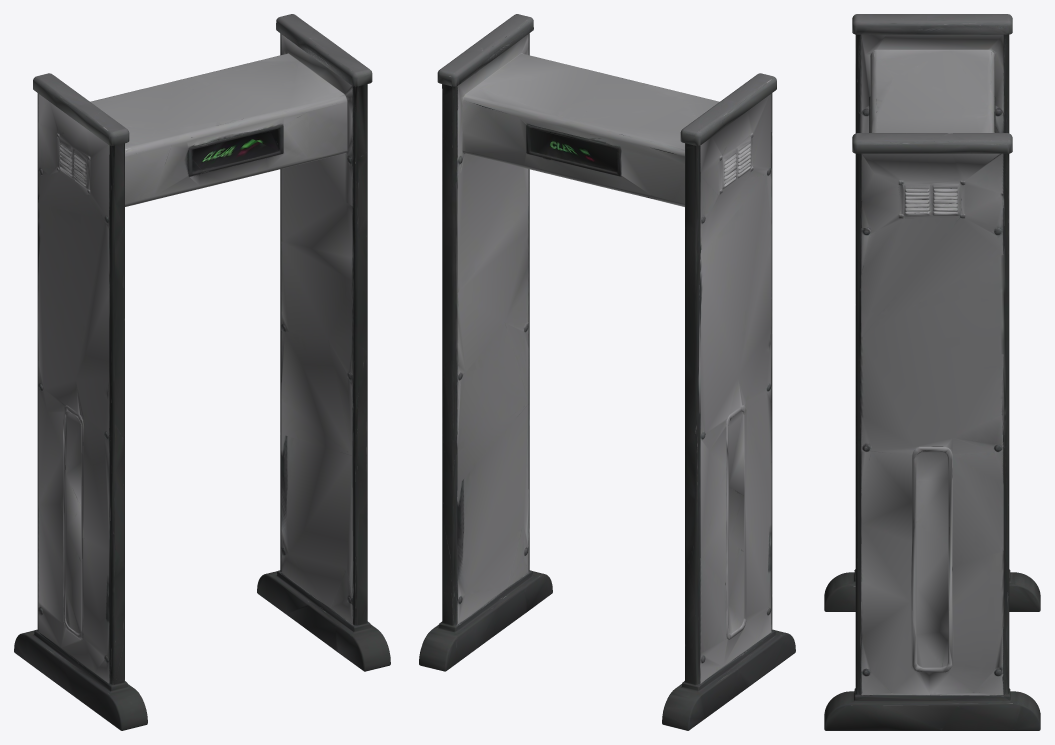
Rendered from detector.glb.
3 renders of one model, left to right at view 1: azimuth 30°, elevation 25°; view 2: azimuth 150°, elevation 25°; view 3: azimuth 270°, elevation 25°, orthographic.
Parts seen in each view (by area): view 1: Mesh_0; view 2: Mesh_0; view 3: Mesh_0.
Part boxes in pixels (<box>): Mesh_0: <box>14,14,390,730</box>; Mesh_0: <box>419,14,795,730</box>; Mesh_0: <box>824,14,1040,730</box>.
Bounding box in the file's own units: 0.9174 × 1.9 × 0.6334.
1 material, 1 textured.
